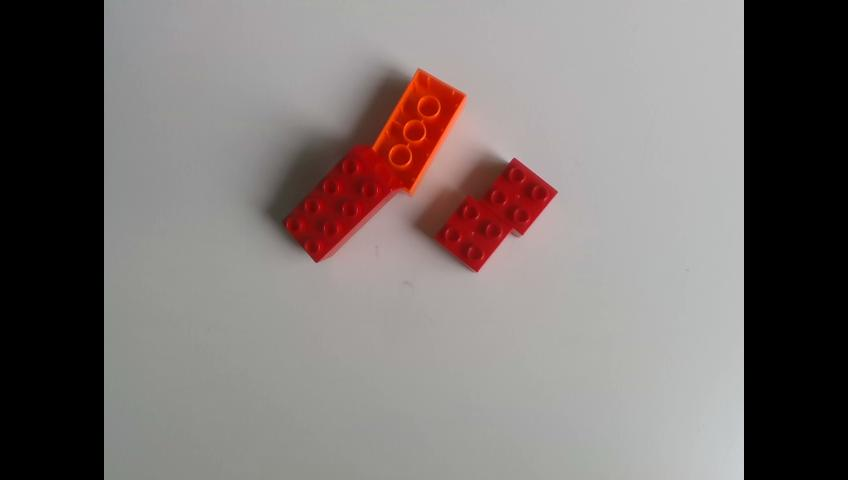2x2_red: (433, 192, 513, 273), (480, 158, 558, 241)
4x2_orange: (370, 68, 468, 197)
4x2_red: (282, 143, 403, 265)
